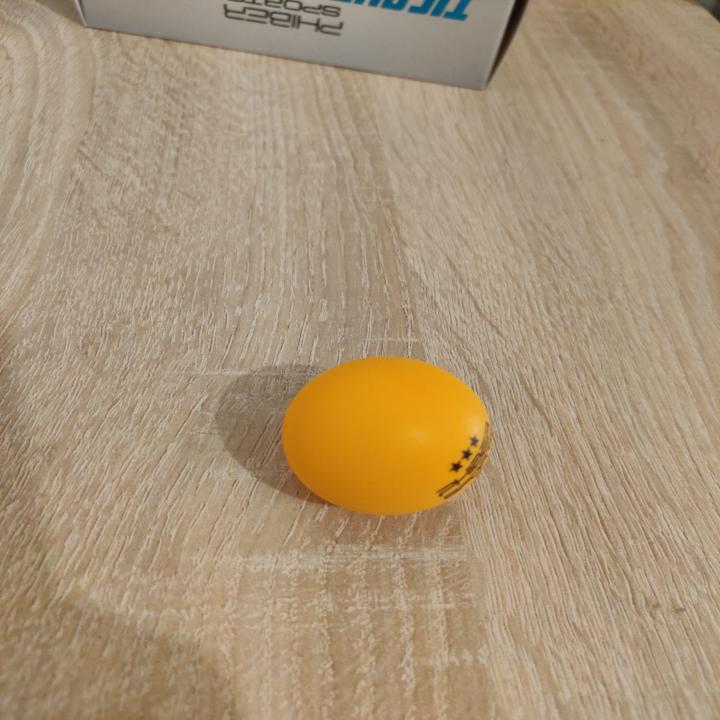orange: (278, 353, 496, 518)
